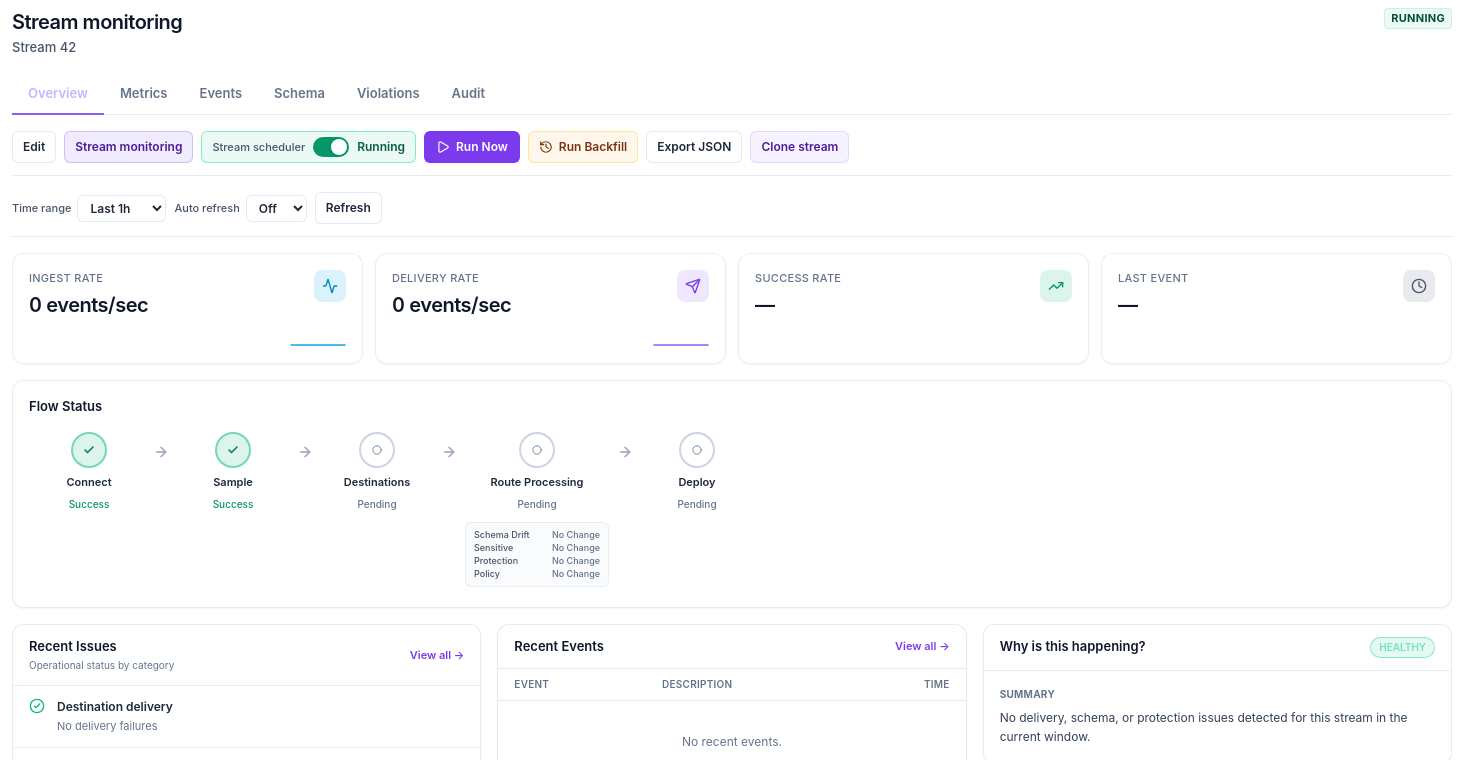
Test: governance drawer page snapshot preload (request-count regression) › refetches governance summaries after panel mutation invalidation
Step 1. Click the tab with test id "stream-detail-tab-audit" → (468, 94), box [436,74,501,115]
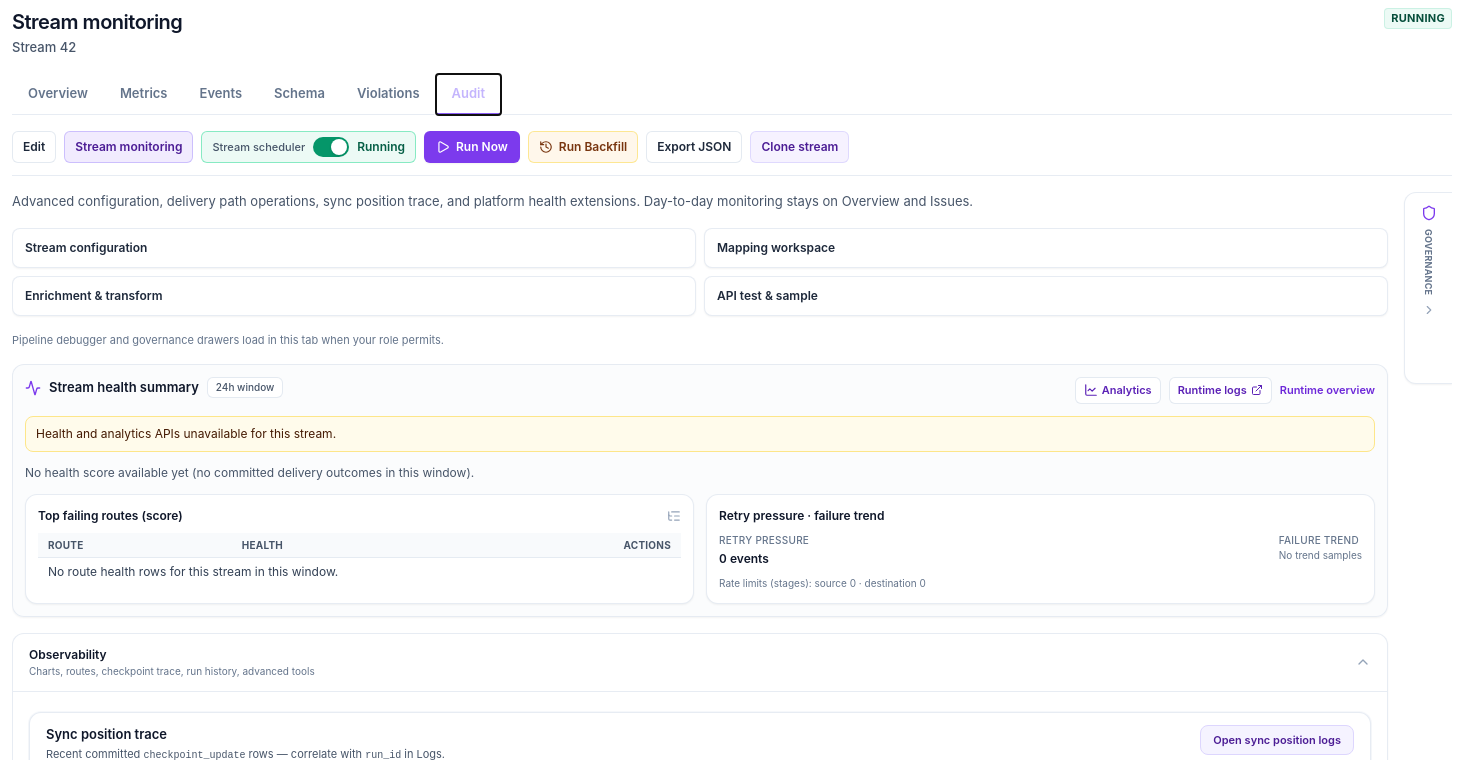
Step 2. Click the button titled "Open Governance drawer" → (1428, 288), box [1404,192,1452,384]
(page scrolled)
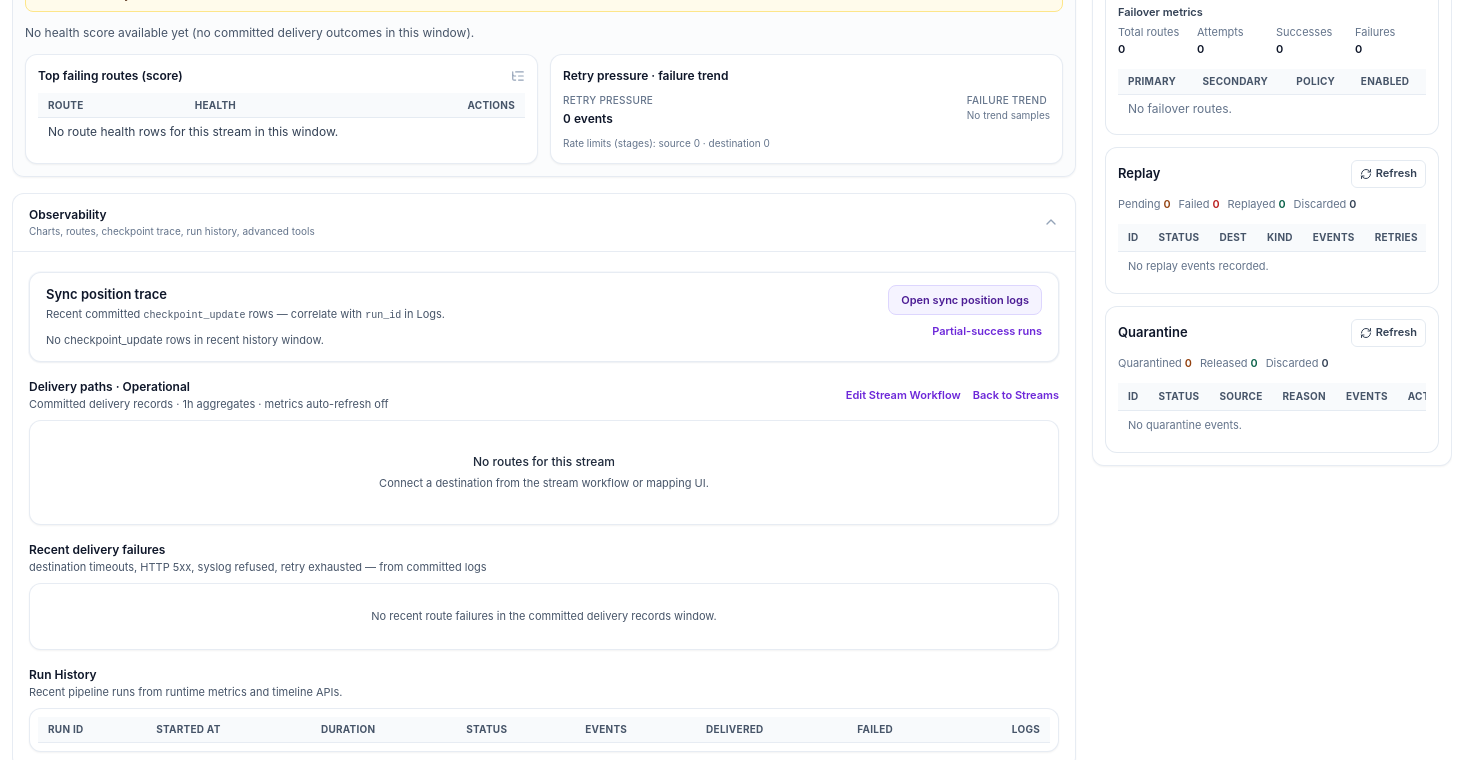
Expected: the element with test id "quarantine-panel" is shown, [1105,306,1439,452]
